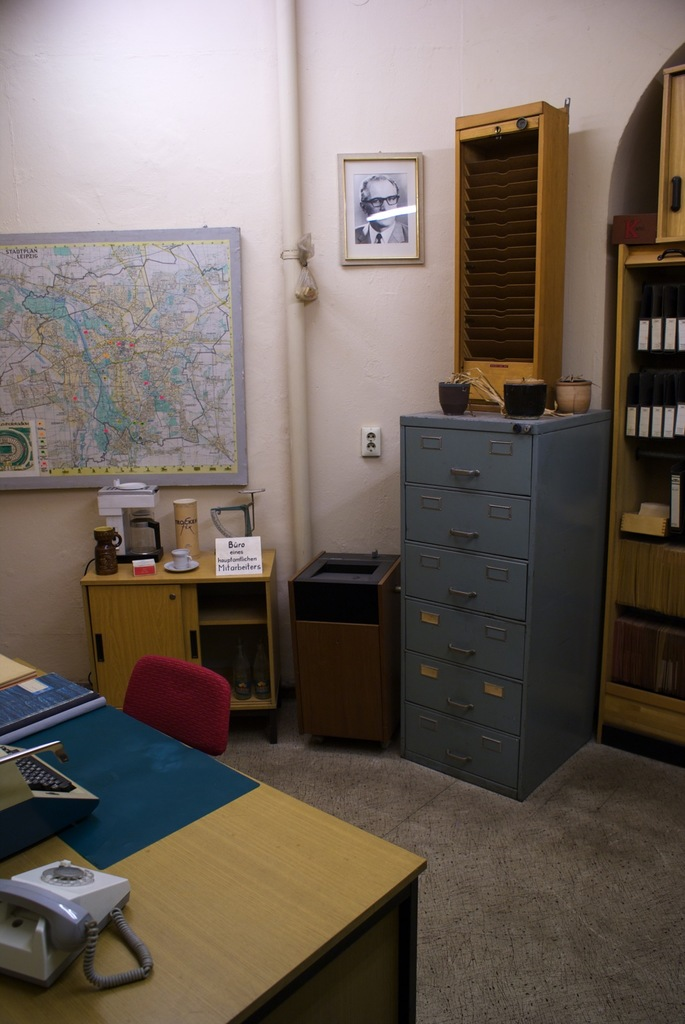cabinet door: (411, 710, 520, 782), (405, 431, 529, 494), (409, 488, 526, 550), (415, 656, 524, 721), (410, 546, 523, 600), (412, 604, 525, 658), (89, 599, 177, 667), (672, 88, 685, 233)
handle: (447, 516, 481, 552), (447, 579, 481, 610), (445, 737, 474, 772), (449, 457, 481, 485), (445, 636, 477, 664), (446, 694, 473, 722), (90, 629, 105, 676), (672, 169, 682, 216), (187, 622, 199, 656)
